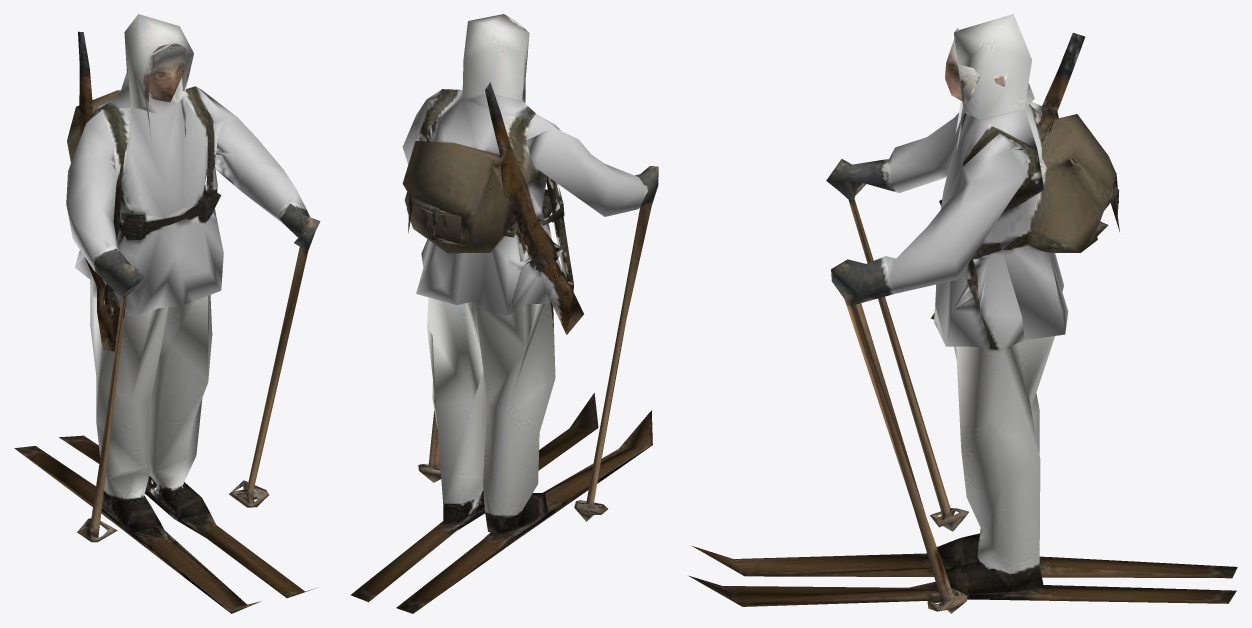
The model's file is alpine-trooper.glb.
3 views of the same model, side by side, from view 1: azimuth 30°, elevation 25°; view 2: azimuth 150°, elevation 25°; view 3: azimuth 270°, elevation 25° (orthographic). The views are drawn at different scales.
Visible parts, largest first — view 1: alpine-trooper; view 2: alpine-trooper; view 3: alpine-trooper.
Boxes of the visible parts, left/top/right/bottom form: alpine-trooper: left=14, top=14, right=320, bottom=613; alpine-trooper: left=350, top=14, right=658, bottom=613; alpine-trooper: left=688, top=14, right=1237, bottom=613.
Size of the model in its own units: 0.8022 by 1.8 by 1.58.
Materials: 2 (2 with a texture image).
